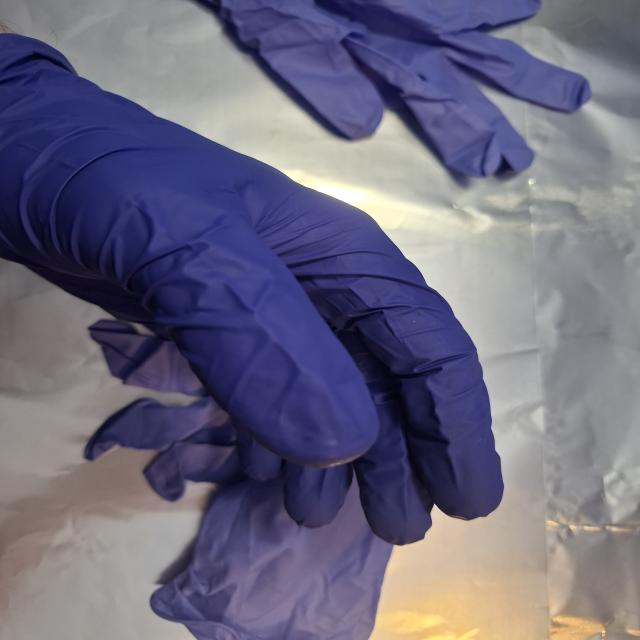glove_on: (0, 28, 509, 548)
